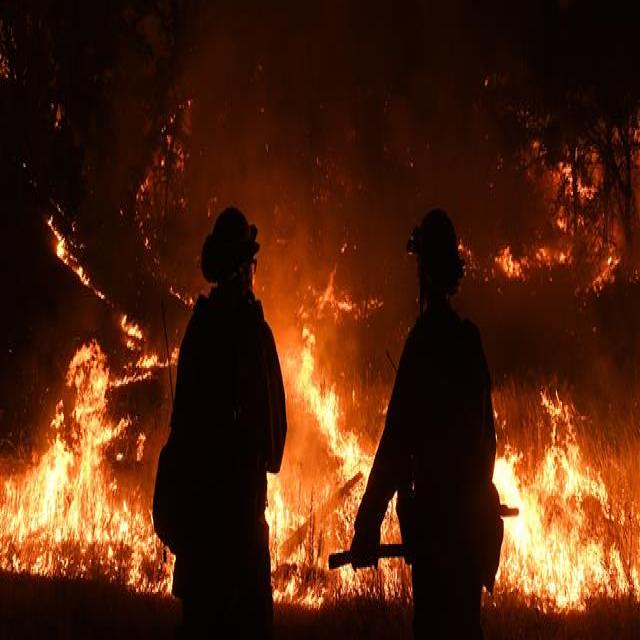fire: (498, 452, 634, 605), (4, 448, 135, 562), (270, 480, 323, 608), (66, 342, 117, 439)
